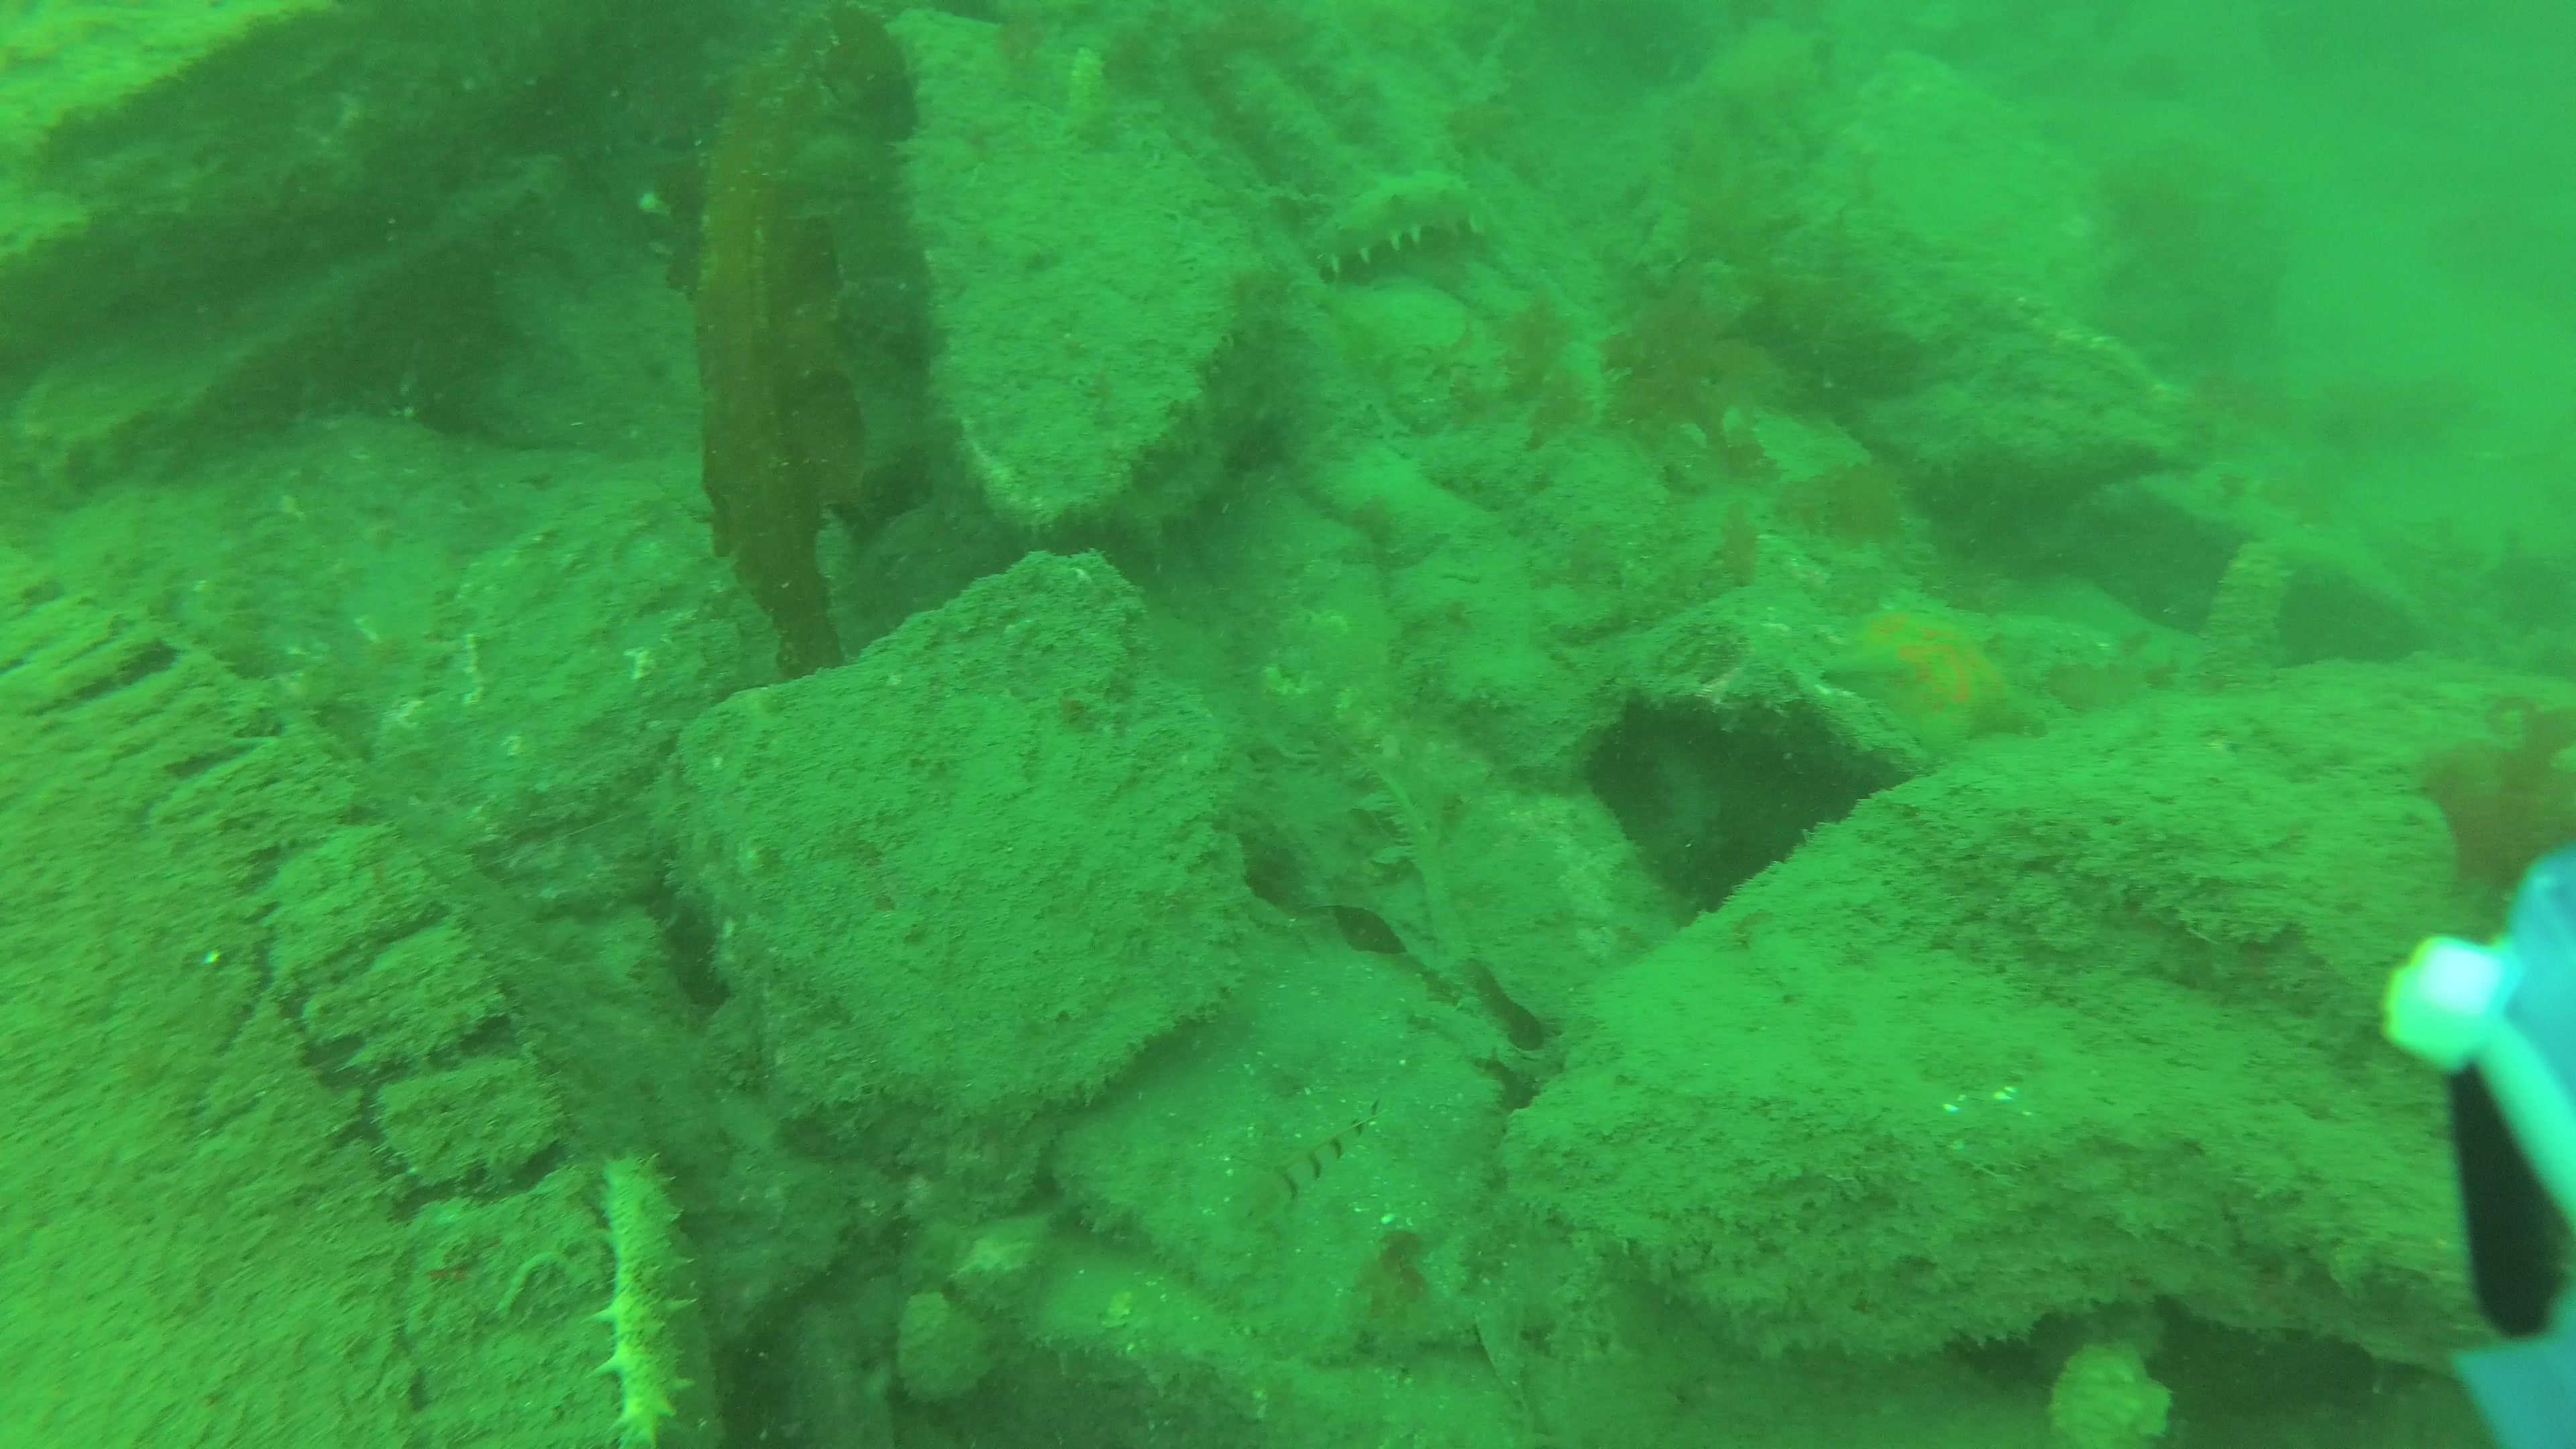echinus: (1821, 605, 2035, 748)
holothurian: (587, 1154, 701, 1447), (1302, 173, 1484, 278)
